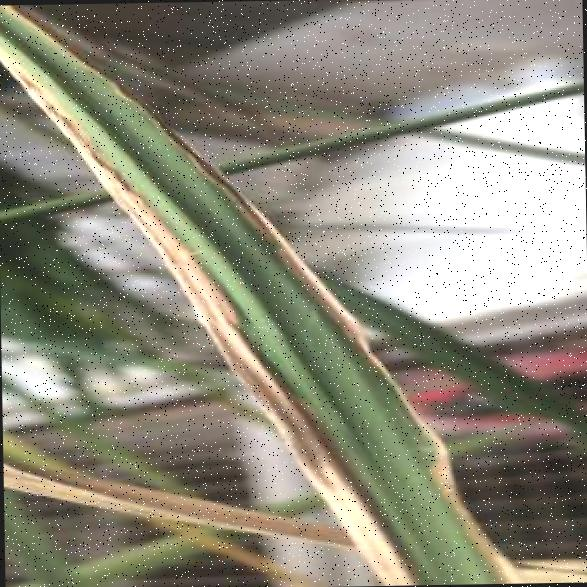Bacteria_Leaf_Blight: (286, 344, 452, 584)
